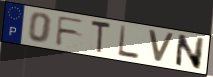0: (28, 11, 53, 45)
F: (54, 15, 86, 48)
L: (116, 24, 141, 61)
N: (173, 33, 206, 71)
T: (90, 19, 113, 55)
V: (146, 28, 176, 65)
